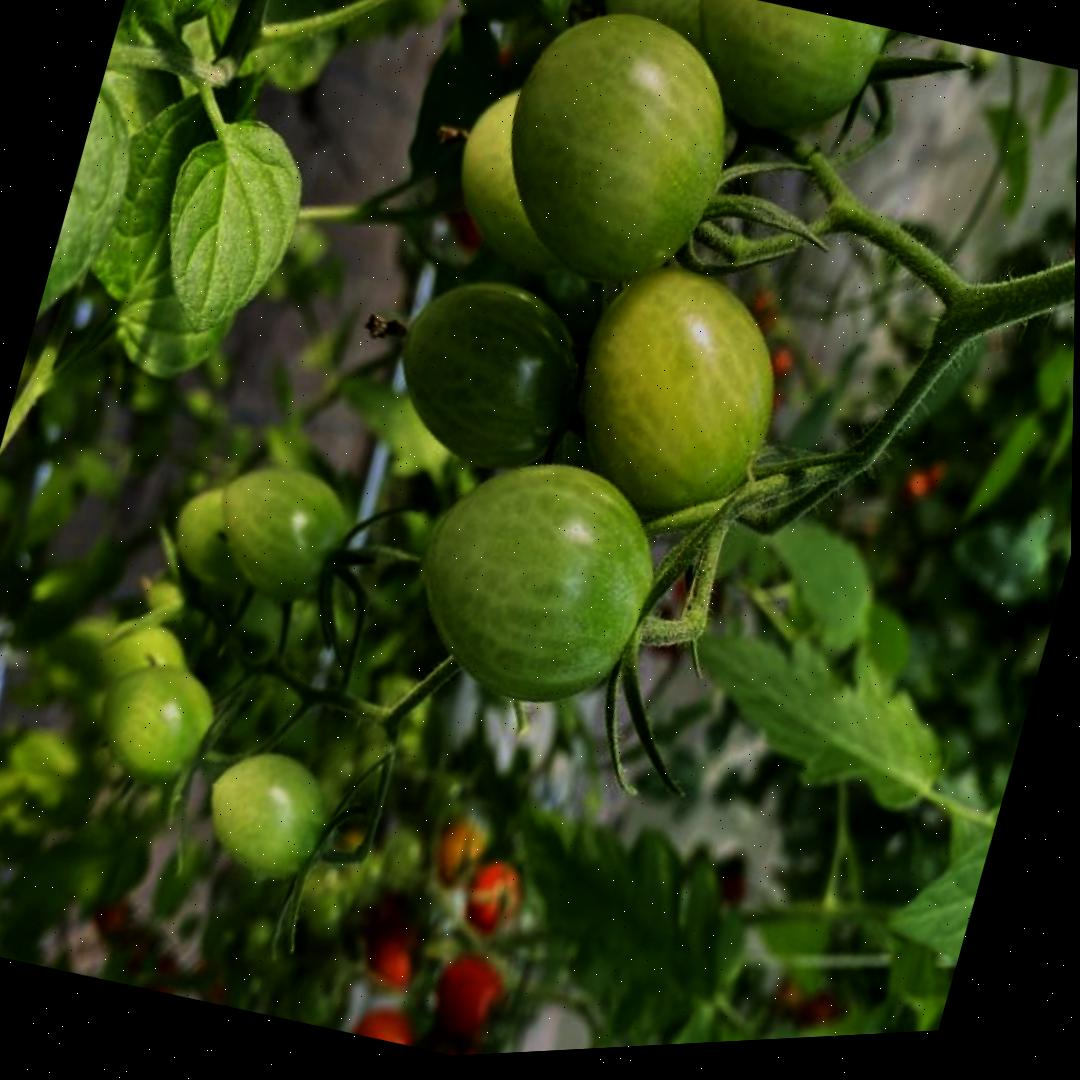mentah: (467, 0, 764, 316), (385, 426, 683, 739), (539, 236, 813, 550), (373, 252, 601, 491), (668, 0, 893, 163), (195, 446, 361, 620), (188, 732, 347, 898), (80, 645, 222, 800)
